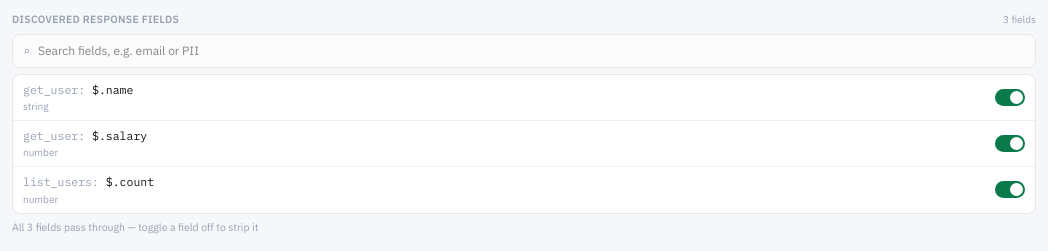
Test case: AllToolsFieldPicker › search narrows the merged list across every tool
The image size is (1048, 251).
Step 1. Type "count" into the field with placeholder "Search fields, e.g. email or PII" → [531, 51], box top-left (38, 35), bottom-right (1025, 67)
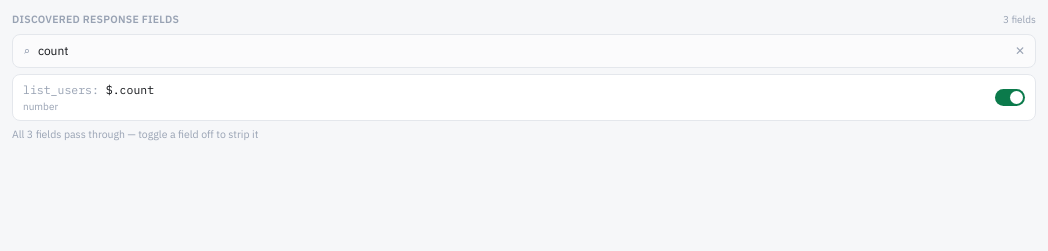
Expected: the text "$.count" is shown, top-left (106, 82), bottom-right (154, 97)
Expected: the text "$.salary" is gone
